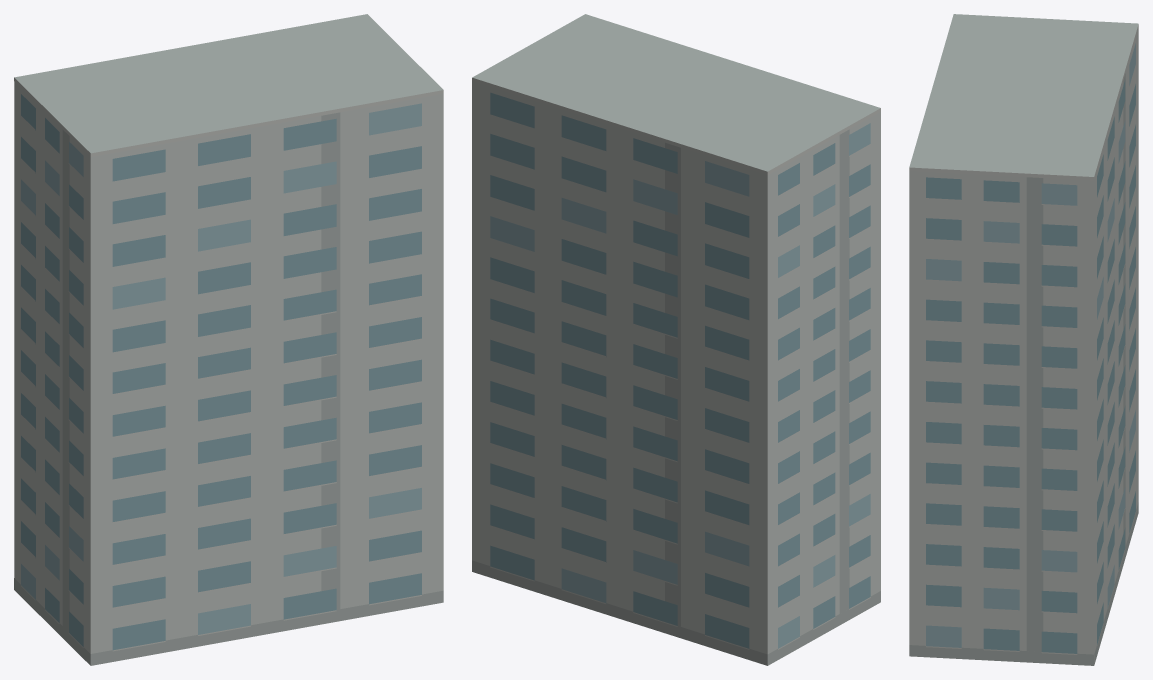
The model's file is residential-41a124dc-11fe-4142-b781-deff22d2495e.glb.
The picture shows the model from 3 angles, left to right: view 1: azimuth 30°, elevation 25°; view 2: azimuth 150°, elevation 25°; view 3: azimuth 270°, elevation 25°; orthographic projection. The views are drawn at different scales.
Parts seen in each view (by area): view 1: residential-41a124dc-11fe-4142-b781-deff22d2495e.tmp; view 2: residential-41a124dc-11fe-4142-b781-deff22d2495e.tmp; view 3: residential-41a124dc-11fe-4142-b781-deff22d2495e.tmp.
Part boxes in pixels (x1=…): residential-41a124dc-11fe-4142-b781-deff22d2495e.tmp: x1=14, y1=14, x2=443, y2=665; residential-41a124dc-11fe-4142-b781-deff22d2495e.tmp: x1=472, y1=14, x2=880, y2=665; residential-41a124dc-11fe-4142-b781-deff22d2495e.tmp: x1=909, y1=14, x2=1138, y2=665.
Size of the model in its own units: 23.62 by 33 by 14.05.
